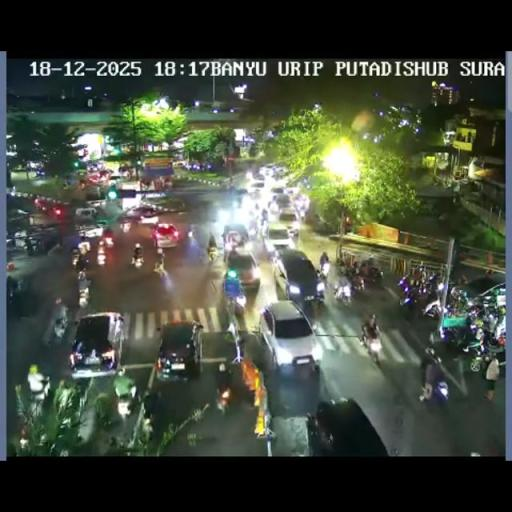Car: (258, 301, 320, 372), (68, 311, 126, 379), (154, 319, 204, 381), (272, 249, 322, 308), (446, 274, 504, 324), (224, 247, 259, 290), (220, 222, 250, 250), (264, 224, 294, 250), (152, 223, 180, 249), (34, 196, 66, 217), (122, 204, 158, 222), (270, 192, 294, 217), (74, 222, 104, 240), (74, 206, 100, 221), (248, 181, 267, 195), (260, 164, 278, 177), (172, 160, 189, 169), (252, 172, 266, 182)
Motorcycle: (436, 314, 477, 354), (471, 322, 505, 366), (417, 364, 449, 405), (24, 377, 50, 420), (308, 409, 334, 452), (94, 392, 119, 426), (360, 327, 382, 365), (398, 286, 422, 316), (140, 391, 159, 423), (362, 266, 386, 290), (215, 381, 231, 414), (76, 272, 91, 307), (333, 279, 353, 305), (227, 292, 247, 318), (72, 375, 92, 401), (6, 275, 20, 308), (116, 393, 134, 418), (422, 298, 442, 320), (24, 235, 46, 255), (6, 235, 26, 254), (17, 422, 30, 450), (54, 314, 67, 340), (424, 272, 438, 295), (96, 239, 108, 265), (152, 254, 166, 276), (316, 260, 330, 280), (350, 273, 364, 293), (130, 250, 144, 269), (222, 242, 234, 264), (246, 221, 260, 239), (78, 237, 90, 254), (398, 274, 410, 290), (206, 245, 217, 262), (260, 216, 269, 236), (70, 251, 80, 268), (297, 206, 306, 224), (350, 258, 360, 274), (104, 232, 114, 247), (226, 182, 236, 196), (436, 280, 446, 292), (458, 274, 468, 286), (121, 220, 130, 233), (186, 224, 194, 238)
